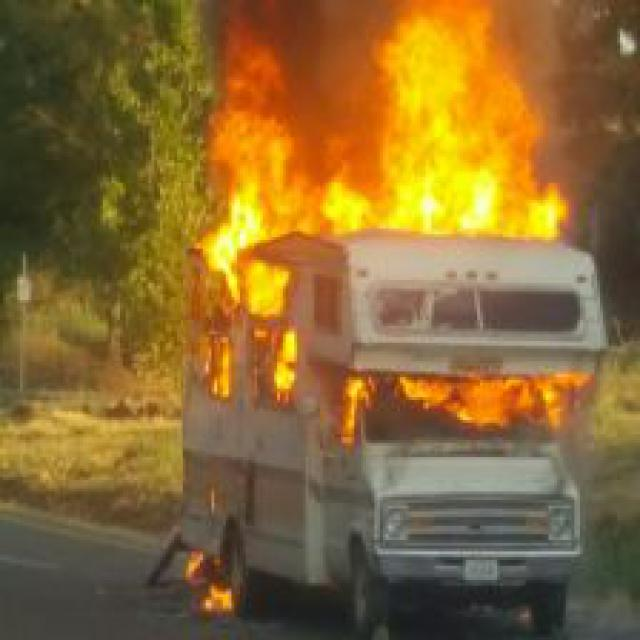fire: (197, 3, 609, 426), (186, 548, 243, 632)
